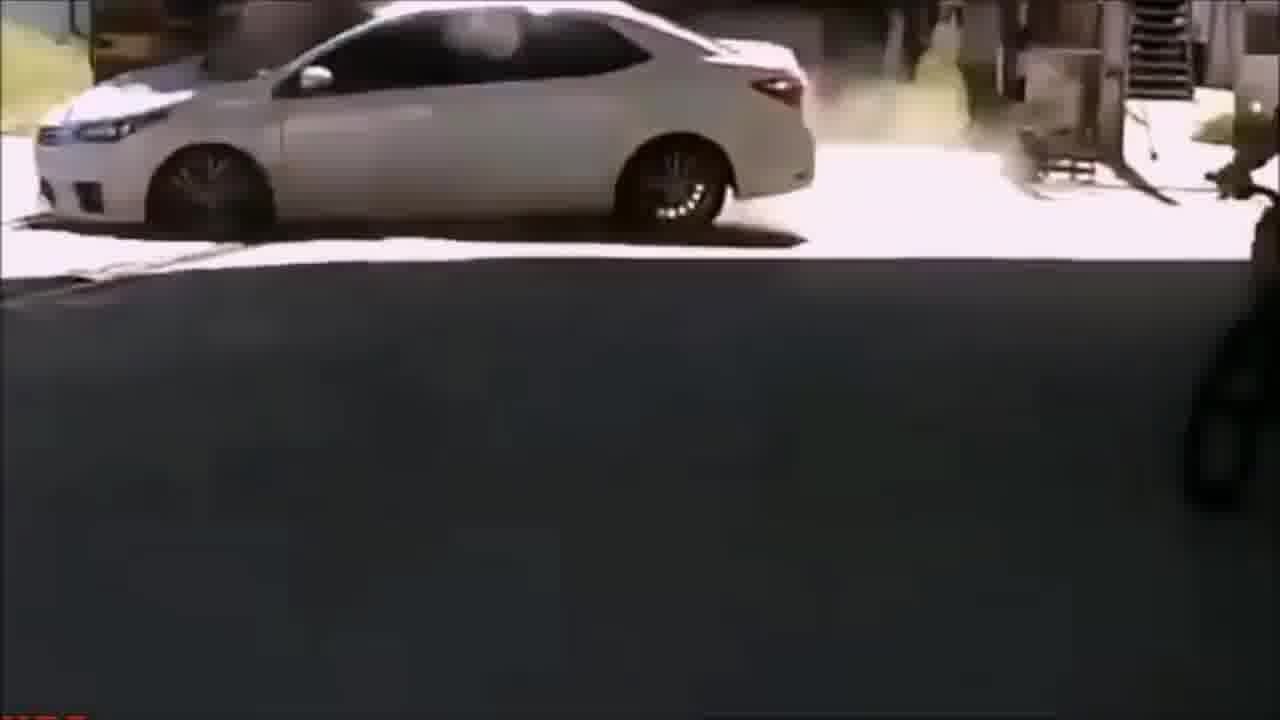crossing railway track: (33, 5, 816, 260)
